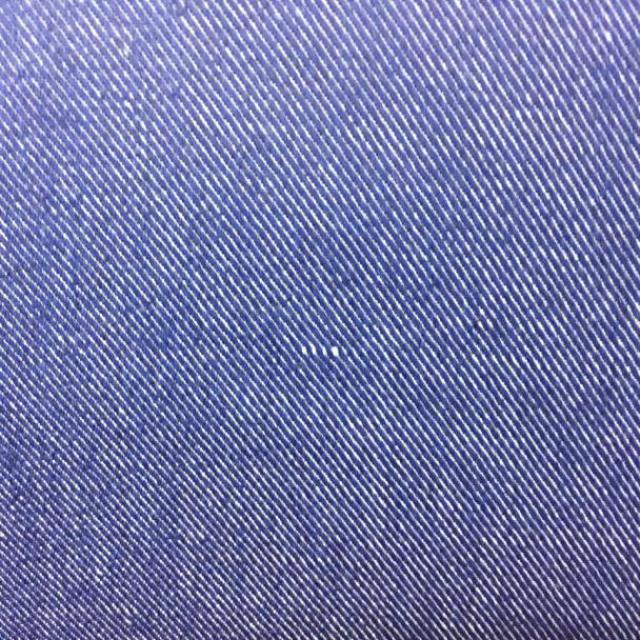Knot: (301, 342, 347, 359)
